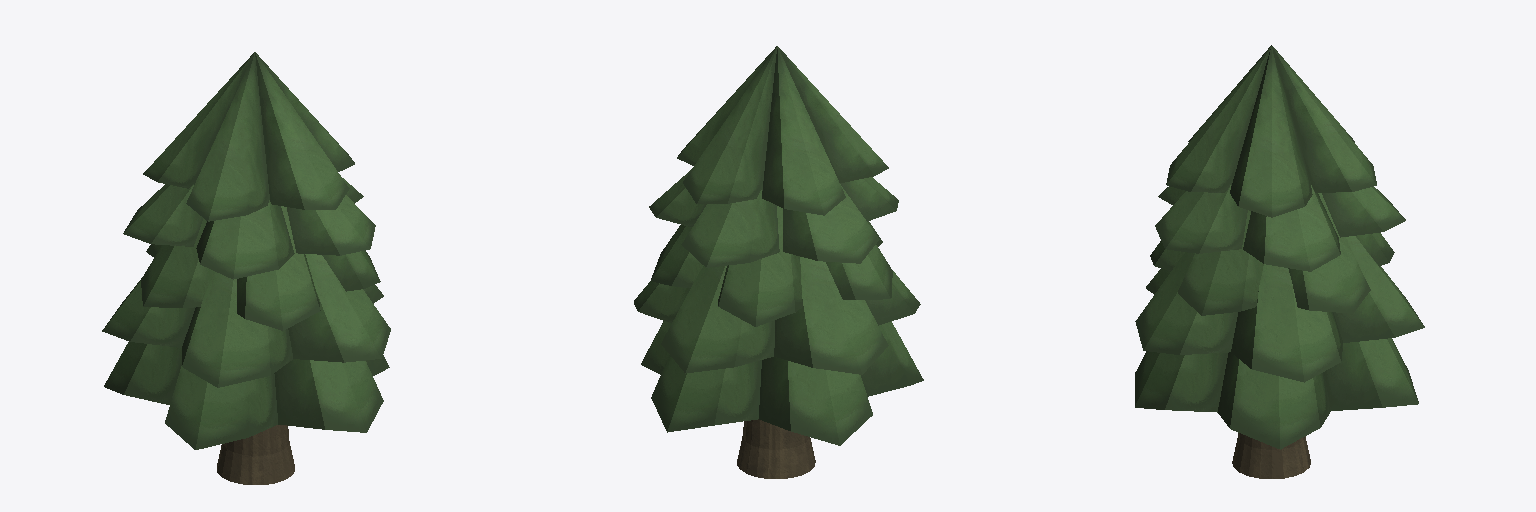
3 renders of one model, left to right at view 1: azimuth 30°, elevation 25°; view 2: azimuth 150°, elevation 25°; view 3: azimuth 270°, elevation 25°, orthographic.
Bounding box in the file's own units: 7.94 × 12.73 × 8.04.
1 materials, 1 textured.